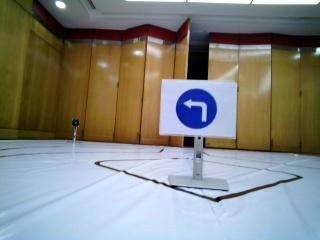left: (164, 83, 227, 132)
